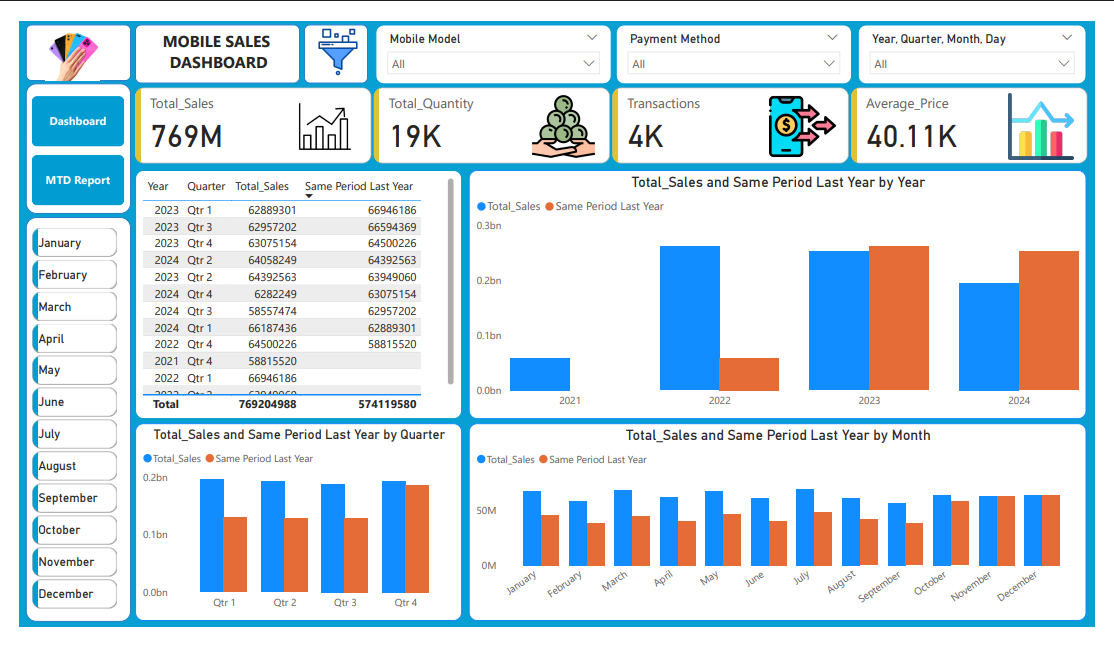

Layout of this report page (visuals, bound fields, positions):
{"tool":"powerbi","page":{"name":"Same Period Last Year","canvas":[1280,720],"ordinal":2},"visuals":[{"type":"shape","box":[7.5,3.8,125,67.5],"z":0},{"type":"image","box":[23.8,3.8,78.8,71.2],"z":1000},{"type":"shape","box":[7.5,73.8,125,155],"z":2000},{"type":"shape","box":[7.5,232.5,125,481.2],"z":3000},{"type":"cardVisual","fields":{"Data":["Sales_Data.Total_Sales","Sales_Data.Total_Quantity","Sales_Data.Transactions","Sales_Data.Average_Price"]},"box":[132.5,73.8,1144,100],"z":4000},{"type":"slicer","fields":{"Values":["Sales_Data.Mobile Model"]},"box":[423.8,3.8,281.2,71.2],"z":5000},{"type":"slicer","fields":{"Values":["Sales_Data.Payment Method"]},"box":[710,3.8,281.2,71.2],"z":6000},{"type":"slicer","fields":{"Values":["Custom_Calendar.Date.Variation.Date Hierarchy.Year","Custom_Calendar.Date.Variation.Date Hierarchy.Quarter","Custom_Calendar.Date.Variation.Date Hierarchy.Month","Custom_Calendar.Date.Variation.Date Hierarchy.Day"]},"box":[997.5,3.8,272.5,71.2],"z":7000},{"type":"shape","box":[338.8,3.8,76.2,70],"z":8000},{"type":"image","box":[337.5,3.8,81.2,66.2],"z":9000},{"type":"shape","box":[137.5,3.8,196.2,70],"z":10000},{"type":"textbox","box":[156.2,6.2,162.5,63.8],"z":11000},{"type":"advancedSlicerVisual","fields":{"Values":["Custom_Calendar.Date.Variation.Date Hierarchy.Month"]},"box":[11.2,241.2,110,472.5],"z":12000},{"type":"tableEx","fields":{"Values":["Custom_Calendar.Date.Variation.Date Hierarchy.Year","Custom_Calendar.Date.Variation.Date Hierarchy.Quarter","Sales_Data.Total_Sales","Sales_Data.Same Period Last Year"]},"box":[137.7,177.2,388.8,295.8],"z":13000},{"type":"clusteredColumnChart","fields":{"Category":["Custom_Calendar.Date.Variation.Date Hierarchy.Year","Custom_Calendar.Date.Variation.Date Hierarchy.Quarter"],"Y":["Sales_Data.Total_Sales","Sales_Data.Same Period Last Year"]},"box":[535.5,177.2,734.3,295.8],"z":14000},{"type":"clusteredColumnChart","fields":{"Y":["Sales_Data.Total_Sales","Sales_Data.Same Period Last Year"],"Category":["Custom_Calendar.Date.Variation.Date Hierarchy.Month","Custom_Calendar.Date.Variation.Date Hierarchy.Day"]},"box":[535.5,478.1,734.3,234.6],"z":15000},{"type":"clusteredColumnChart","fields":{"Y":["Sales_Data.Total_Sales","Sales_Data.Same Period Last Year"],"Category":["Custom_Calendar.Date.Variation.Date Hierarchy.Quarter"]},"box":[137.7,478.1,388.8,234.6],"z":16000},{"type":"pageNavigator","box":[15,88.8,110,130],"z":17000}]}

Visuals, with their boxes in screenshot pixels (x1, y1, x2, y2), scaled from the page's 1280x720 canvas onto the 1114x645 screenshot:
shape: 7:3:115:64
image: 21:3:89:67
shape: 7:66:115:205
shape: 7:208:115:639
cardVisual - Sales_Data.Total_Sales x Sales_Data.Total_Quantity: 115:66:1111:156
slicer - Sales_Data.Mobile Model: 369:3:614:67
slicer - Sales_Data.Payment Method: 618:3:863:67
slicer - Custom_Calendar.Date.Variation.Date Hierarchy.Year x Custom_Calendar.Date.Variation.Date Hierarchy.Quarter: 868:3:1105:67
shape: 295:3:361:66
image: 294:3:364:63
shape: 120:3:290:66
textbox: 136:6:277:63
advancedSlicerVisual - Custom_Calendar.Date.Variation.Date Hierarchy.Month: 10:216:105:639
tableEx - Custom_Calendar.Date.Variation.Date Hierarchy.Year x Custom_Calendar.Date.Variation.Date Hierarchy.Quarter: 120:159:458:424
clusteredColumnChart - Custom_Calendar.Date.Variation.Date Hierarchy.Year x Custom_Calendar.Date.Variation.Date Hierarchy.Quarter: 466:159:1105:424
clusteredColumnChart - Sales_Data.Total_Sales x Sales_Data.Same Period Last Year: 466:428:1105:638
clusteredColumnChart - Sales_Data.Total_Sales x Sales_Data.Same Period Last Year: 120:428:458:638
pageNavigator: 13:80:109:196
